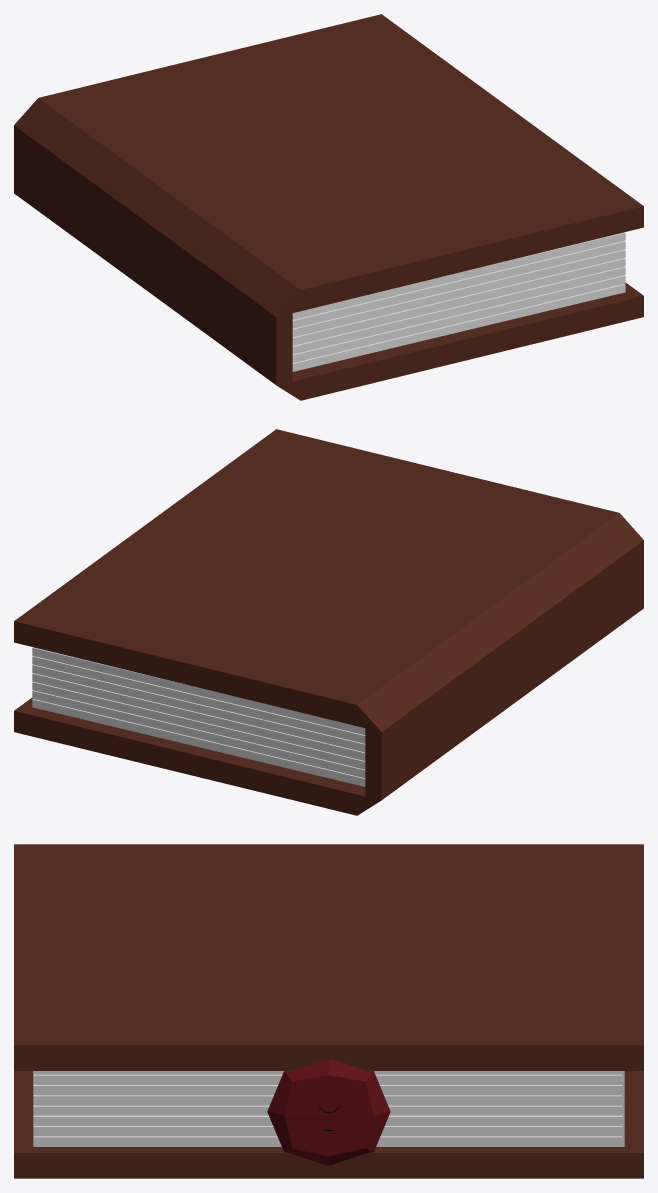
File: altesbuch.glb
The picture shows the model from 3 angles, top to bottom: view 1: azimuth 30°, elevation 25°; view 2: azimuth 150°, elevation 25°; view 3: azimuth 270°, elevation 25°; orthographic projection. The views are drawn at different scales.
Visible parts, largest first — view 1: Plane; view 2: Plane; view 3: Plane, Cube.
Boxes of the visible parts, <box> form: Plane: <box>14,14,643,400</box>; Plane: <box>14,429,643,815</box>; Plane: <box>14,844,643,1178</box>; Cube: <box>267,1058,390,1165</box>.
Size of the model in its own units: 2.43 by 0.6863 by 2.94.
